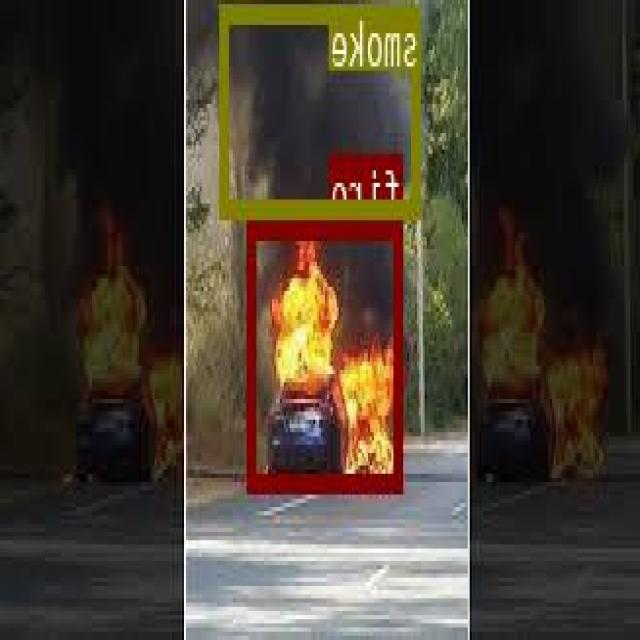fire: (249, 218, 404, 489)
smoke: (222, 2, 422, 215)
